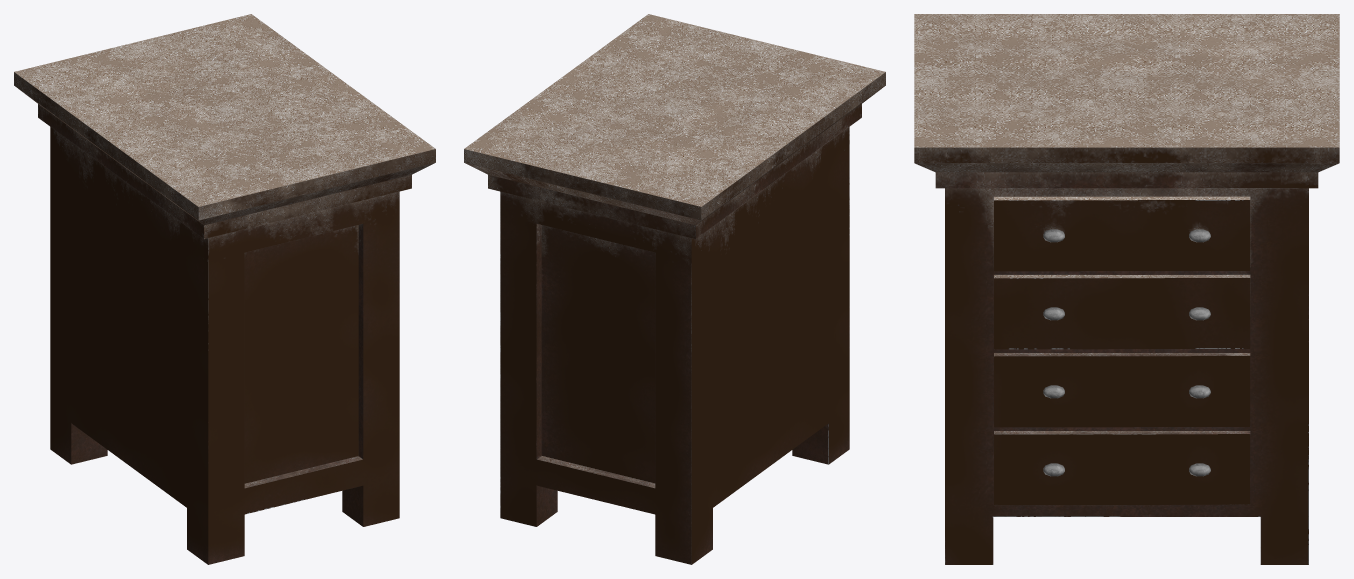
The model's file is shelfsmall.fbx.
The picture shows the model from 3 angles, left to right: view 1: azimuth 30°, elevation 25°; view 2: azimuth 150°, elevation 25°; view 3: azimuth 270°, elevation 25°; orthographic projection. The views are drawn at different scales.
Visible parts, largest first — view 1: shelfsmall; view 2: shelfsmall; view 3: shelfsmall.
Boxes of the visible parts, <box> form: shelfsmall: <box>14,14,435,564</box>; shelfsmall: <box>464,14,885,564</box>; shelfsmall: <box>914,14,1339,564</box>.
Bounding box in the file's own units: 86.77 × 130 × 117.
